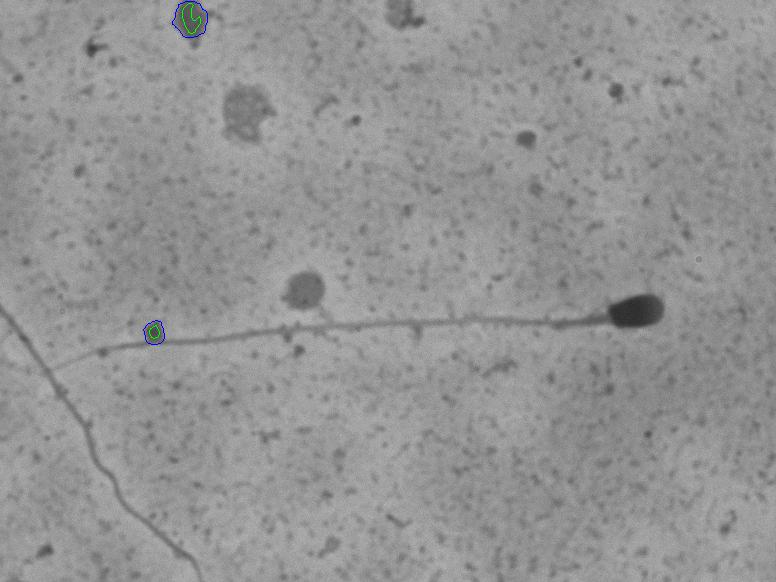Abnormal: (70, 261, 682, 390)
